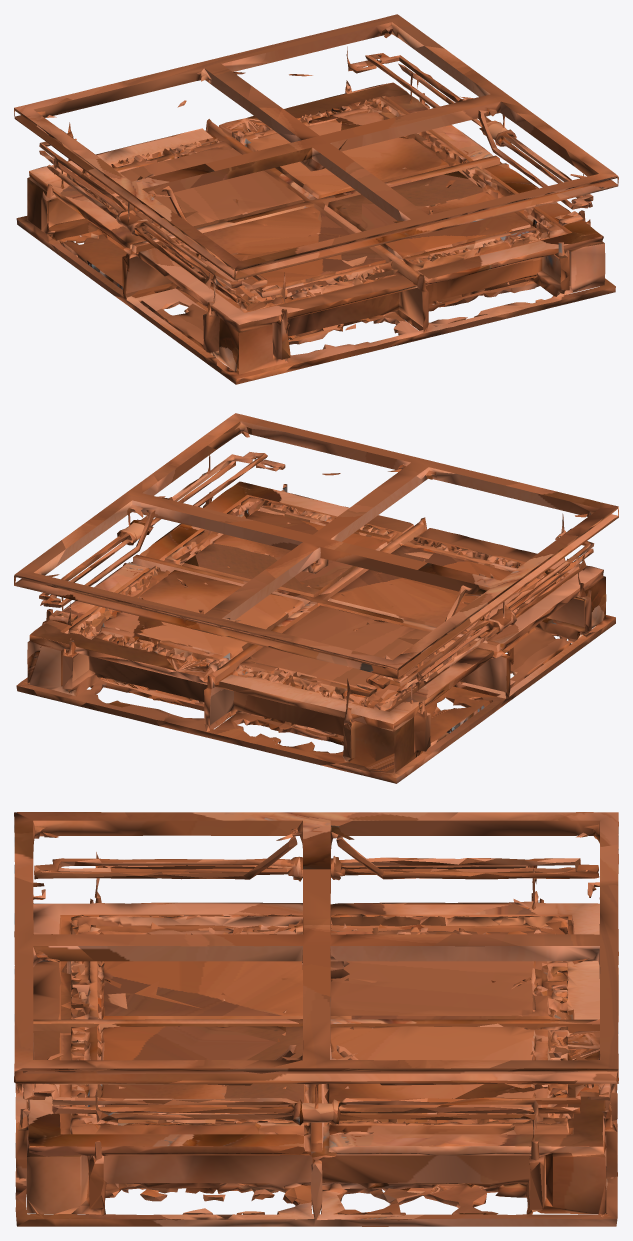
File: Env_CeilingPanel_4m_Repaired.fbx
The picture shows the model from 3 angles, top to bottom: view 1: azimuth 30°, elevation 25°; view 2: azimuth 150°, elevation 25°; view 3: azimuth 270°, elevation 25°; orthographic projection. The views are drawn at different scales.
Parts seen in each view (by area): view 1: texture_mapping; view 2: texture_mapping; view 3: texture_mapping.
Part boxes in pixels (x1=…): texture_mapping: x1=14, y1=14, x2=618, y2=384; texture_mapping: x1=14, y1=413, x2=618, y2=783; texture_mapping: x1=14, y1=812, x2=618, y2=1226.
Bounding box in the file's own units: 98.27 × 28.75 × 97.76.
